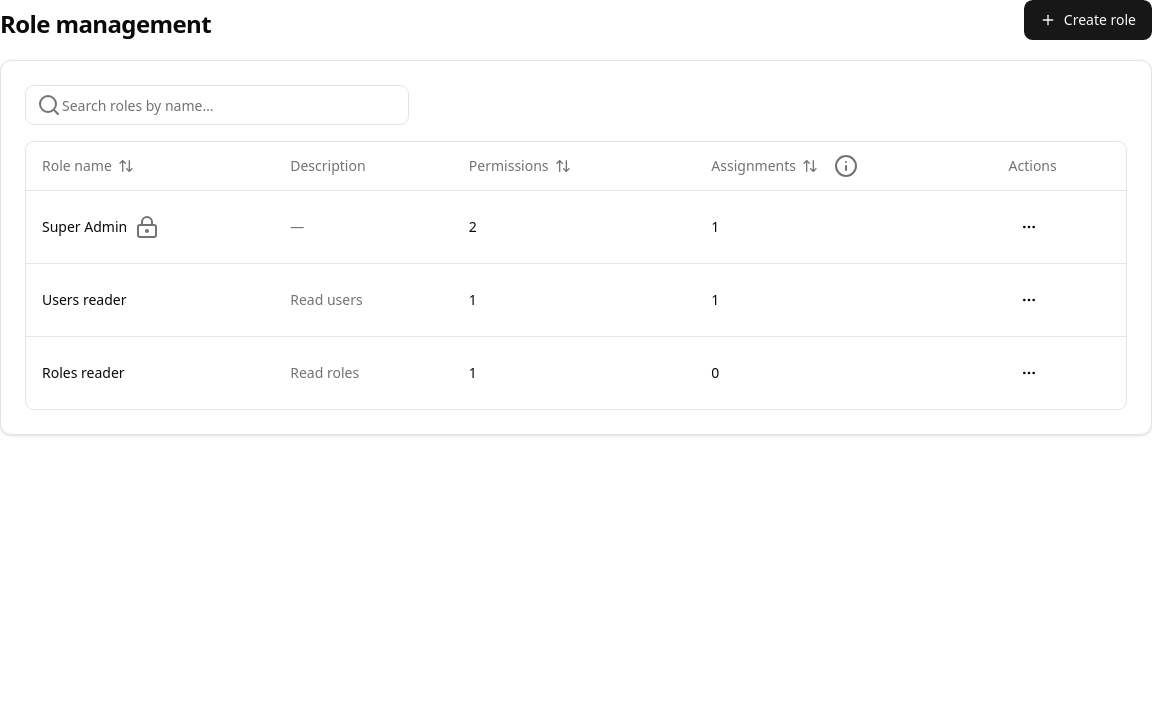
access components › groups the role permission picker by resource
expect the heading "Role management" is shown: met, box 0,8 -> 211,40
Step 1. Click the button "Create role" → (1088, 20), box 1024,0 -> 1151,40
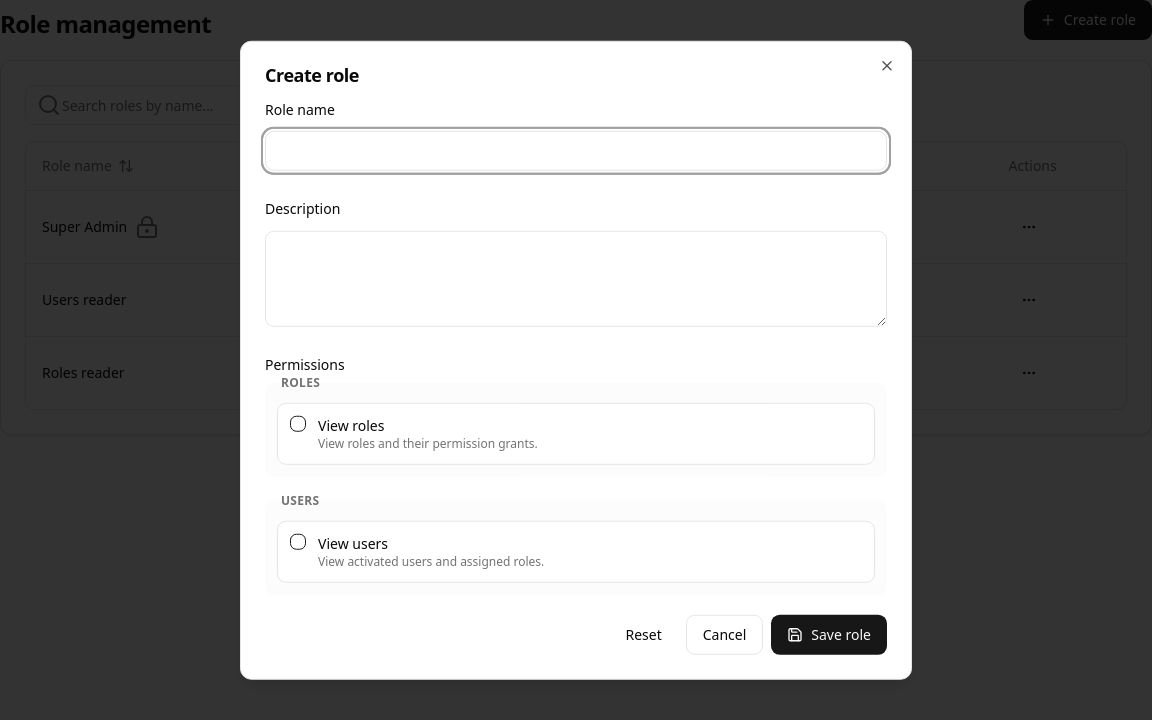
expect the checkbox named "View users" is shown: met, box 290,533 -> 306,549
expect the checkbox named "View roles" is shown: met, box 290,415 -> 306,431
